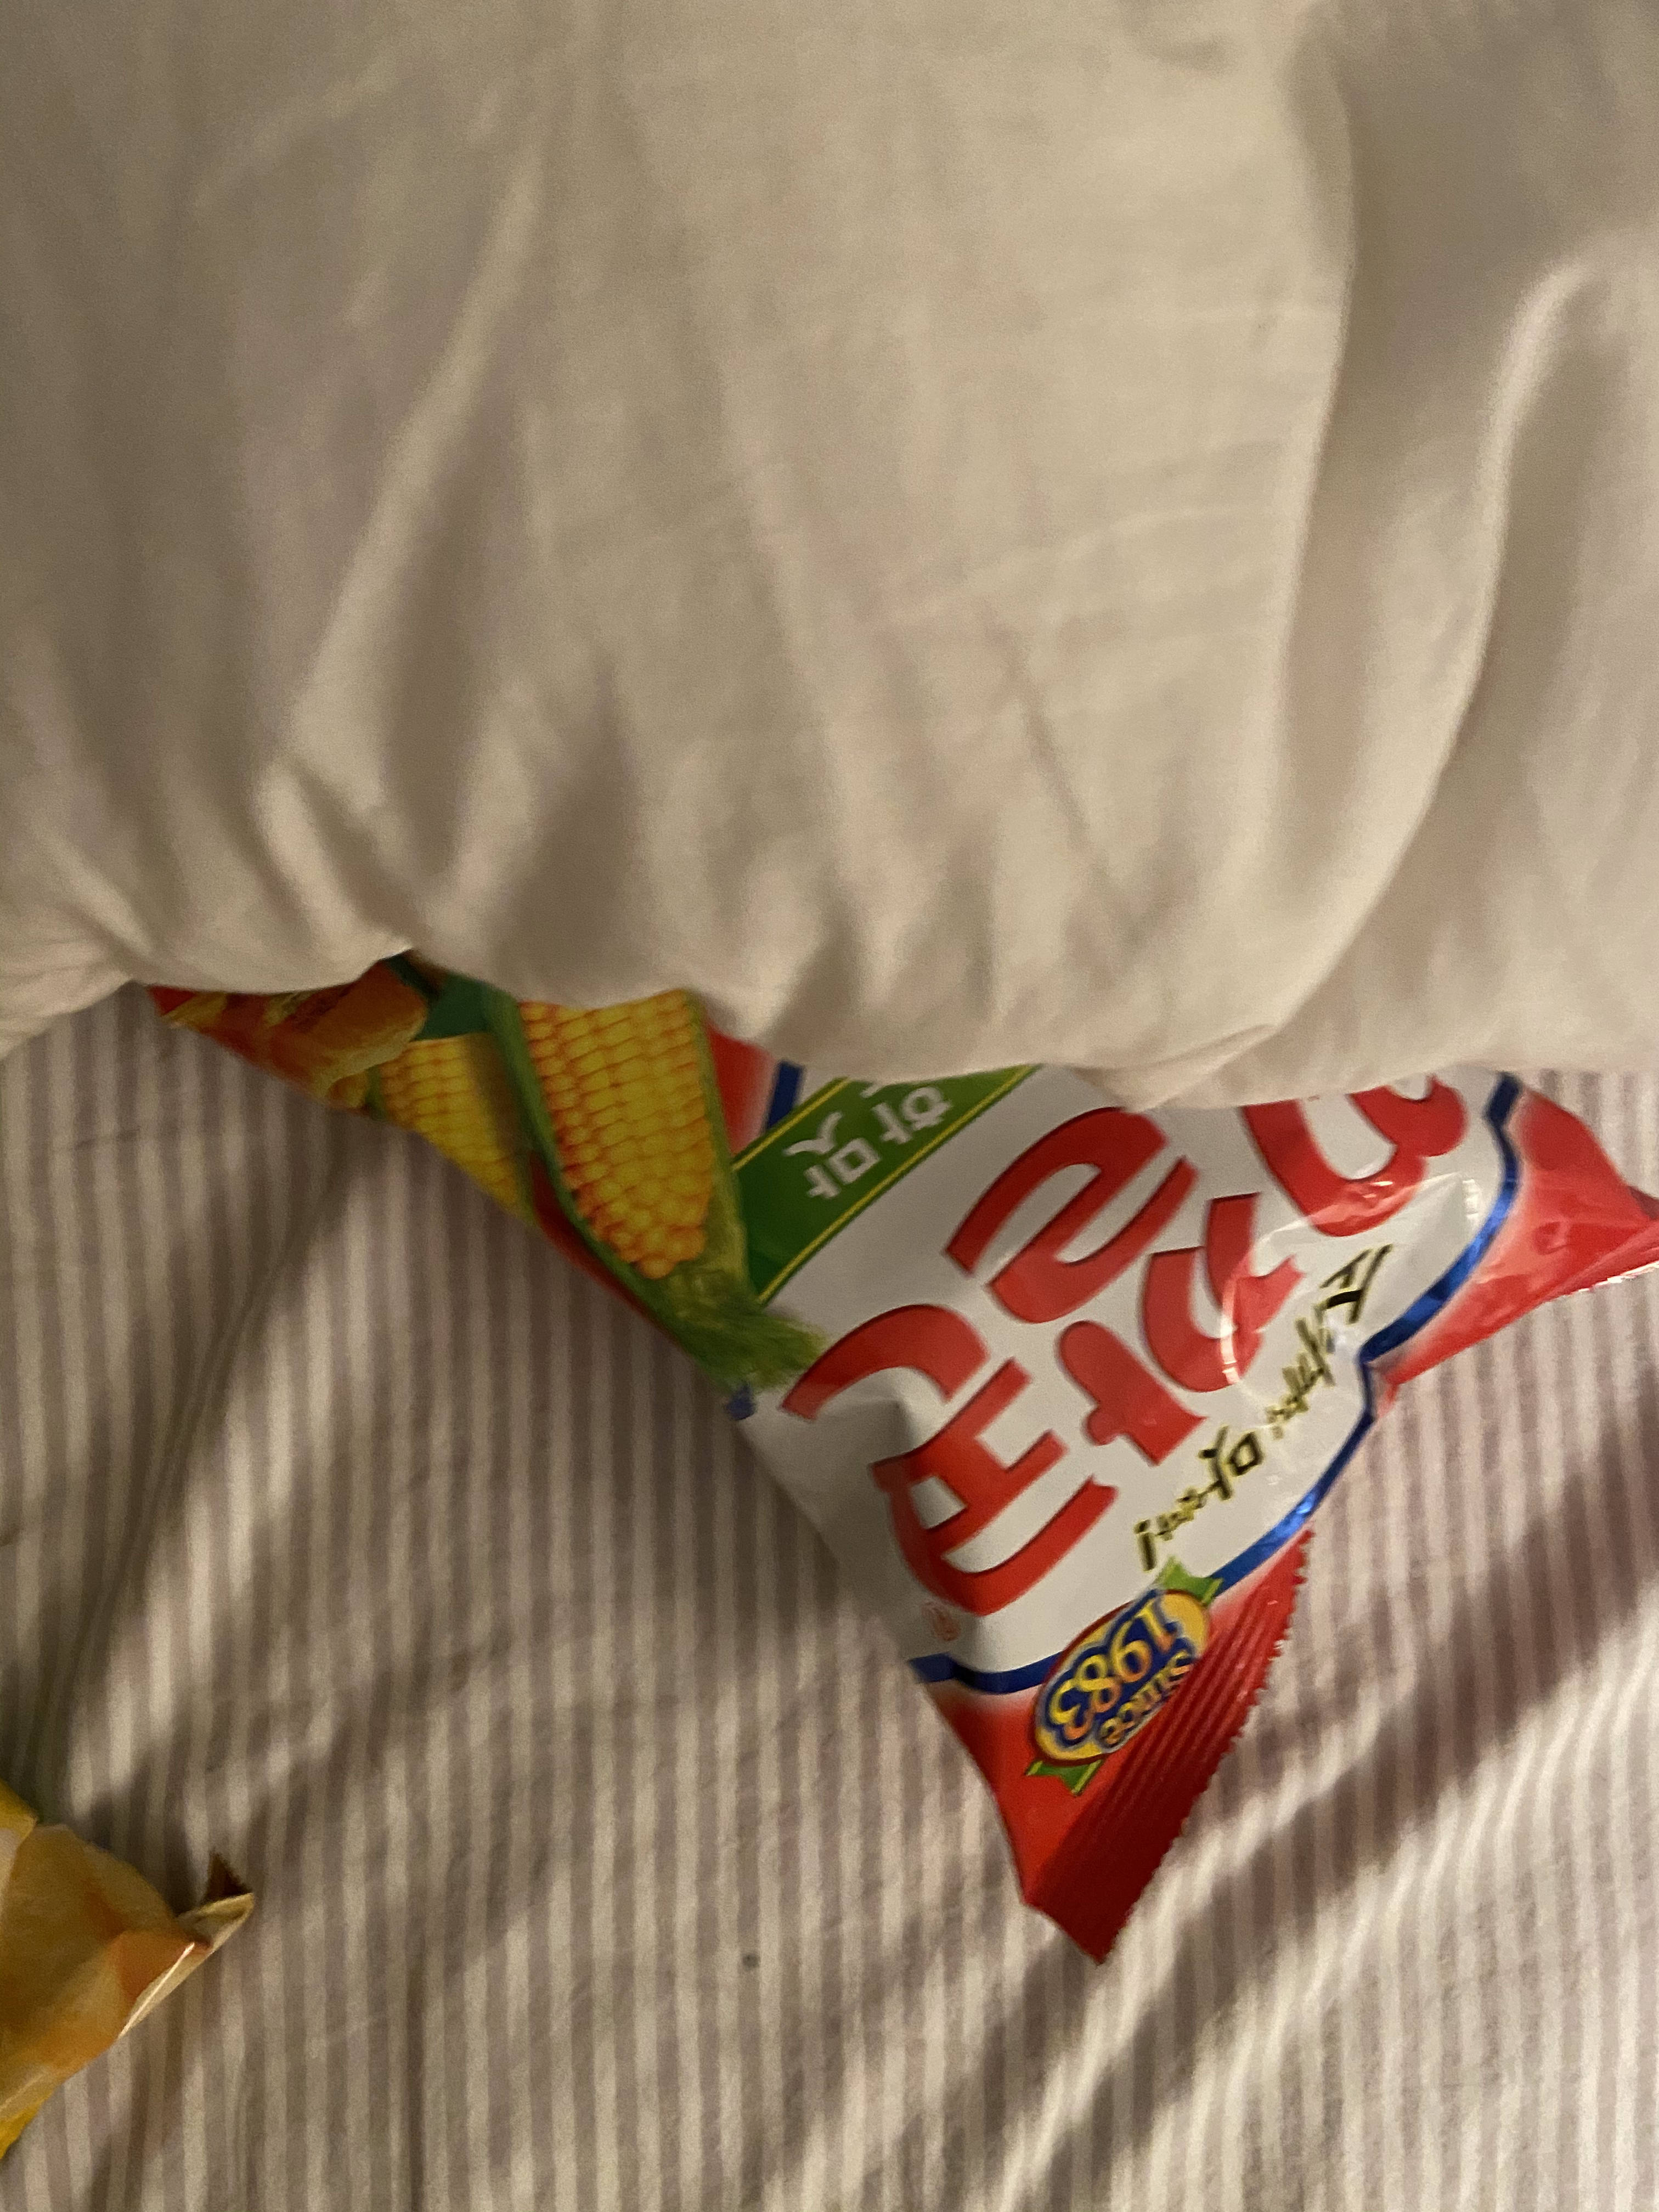ggoggalcon: (132, 944, 1659, 1970)
